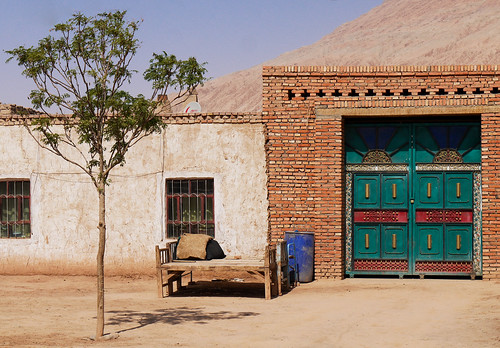bench: (149, 241, 289, 301)
building: (1, 71, 496, 275)
door: (337, 115, 480, 278)
tree: (13, 5, 210, 348)
